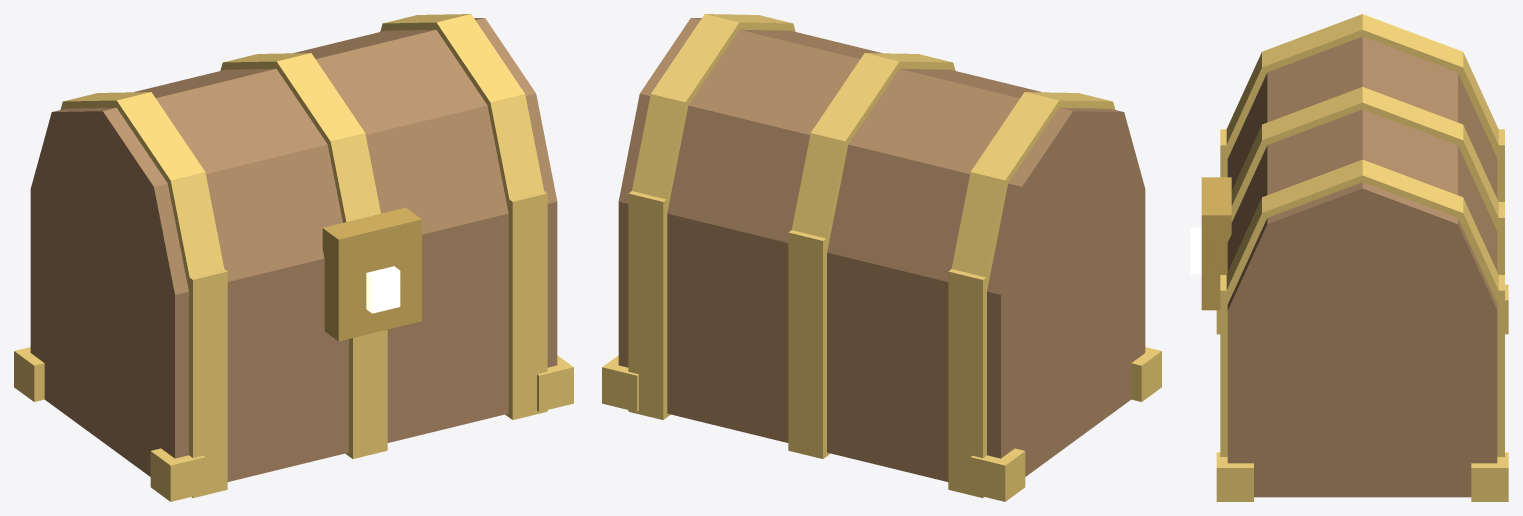
Rendered from loot_chest.glb.
The picture shows the model from 3 angles, left to right: view 1: azimuth 30°, elevation 25°; view 2: azimuth 150°, elevation 25°; view 3: azimuth 270°, elevation 25°; orthographic projection. The views are drawn at different scales.
Visible parts, largest first — view 1: loot_chest; view 2: loot_chest; view 3: loot_chest.
Boxes of the visible parts, left/top/right/bottom form: loot_chest: left=14, top=14, right=573, bottom=501; loot_chest: left=602, top=14, right=1161, bottom=501; loot_chest: left=1190, top=14, right=1508, bottom=501.
Bounding box in the file's own units: 1.16 × 0.94 × 0.85.
